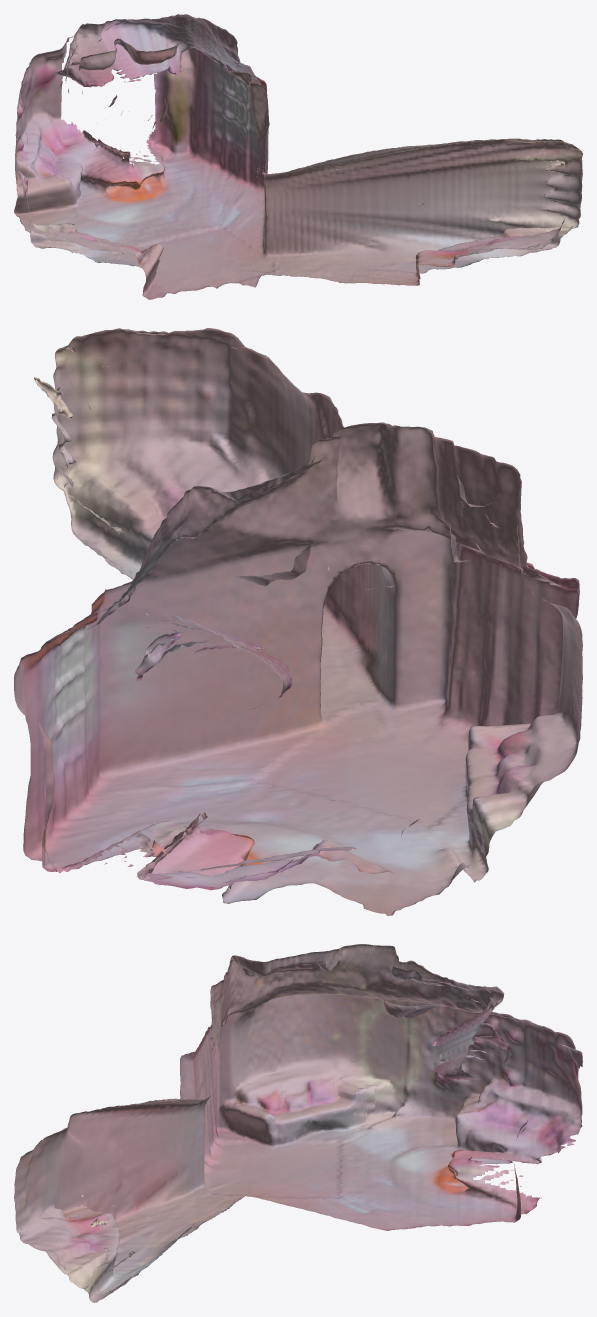
Rendered from sunkissed-sparkle-lounge-1-1-E2_collider.glb.
3 renders of one model, top to bottom at view 1: azimuth 30°, elevation 25°; view 2: azimuth 150°, elevation 25°; view 3: azimuth 270°, elevation 25°, orthographic. The views are drawn at different scales.
Parts seen in each view (by area): view 1: world; view 2: world; view 3: world.
Boxes of the visible parts, x1=… form: world: x1=14, y1=14, x2=582, y2=299; world: x1=14, y1=328, x2=582, y2=915; world: x1=14, y1=944, x2=582, y2=1302.
Size of the model in its own units: 6.25 by 2.57 by 6.76.
